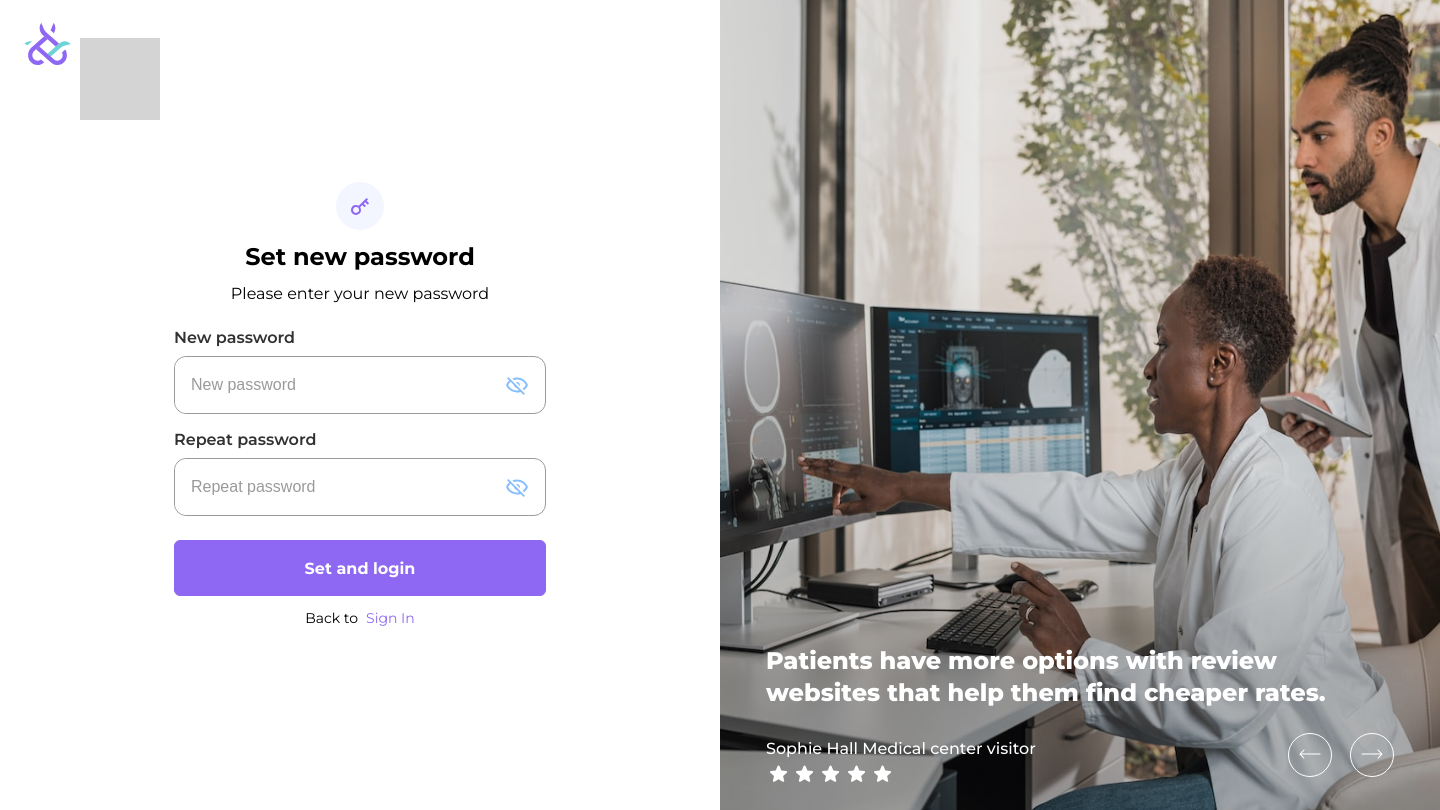
it: SetNewPasswordPage › does NOT submit form when passwords are not matching
In the password field with placeholder "New password": (336, 385) 175,357 -> 497,413, type "Abcde123!"
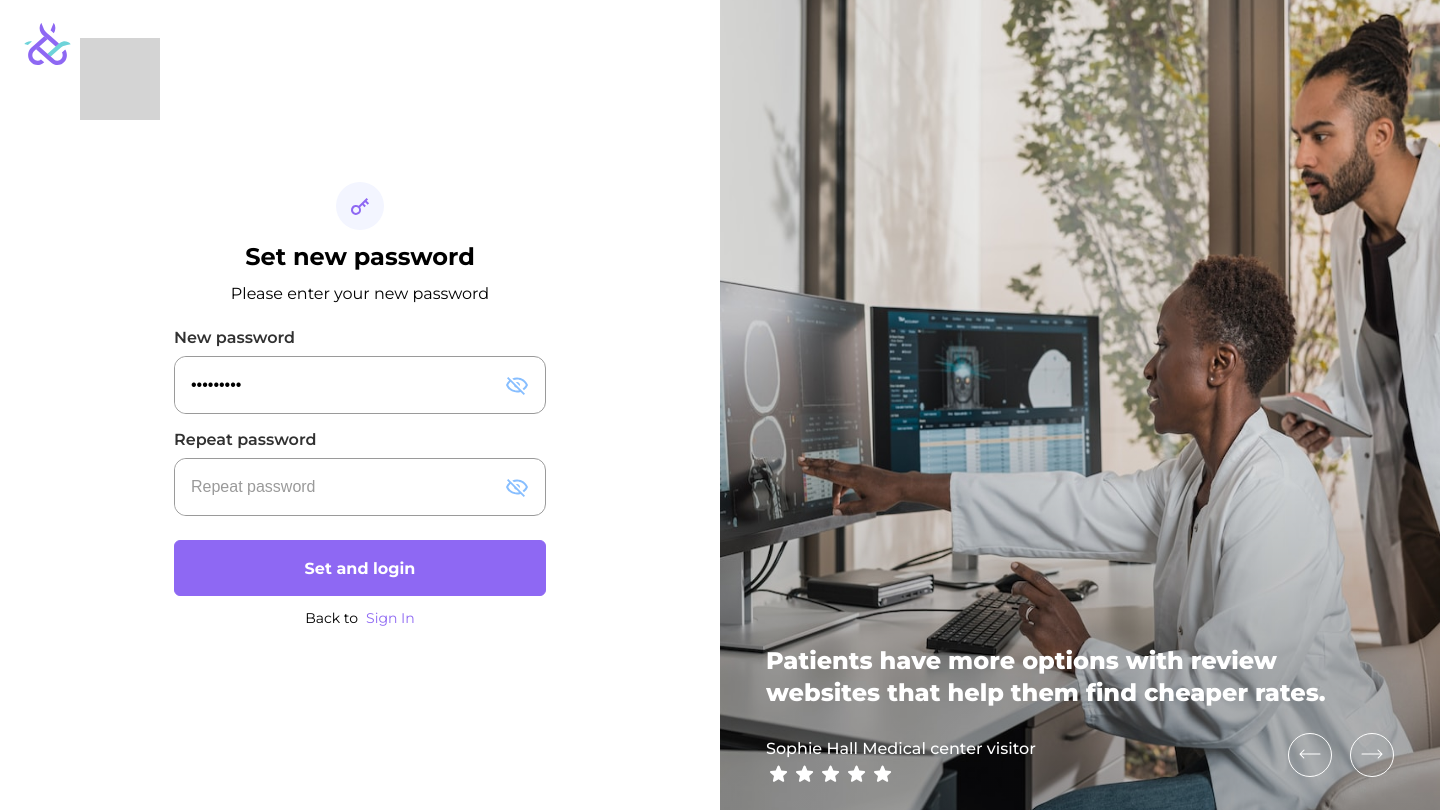
In the password field with placeholder "Repeat password": (336, 487) 175,459 -> 497,515, type "Efghijk123!"
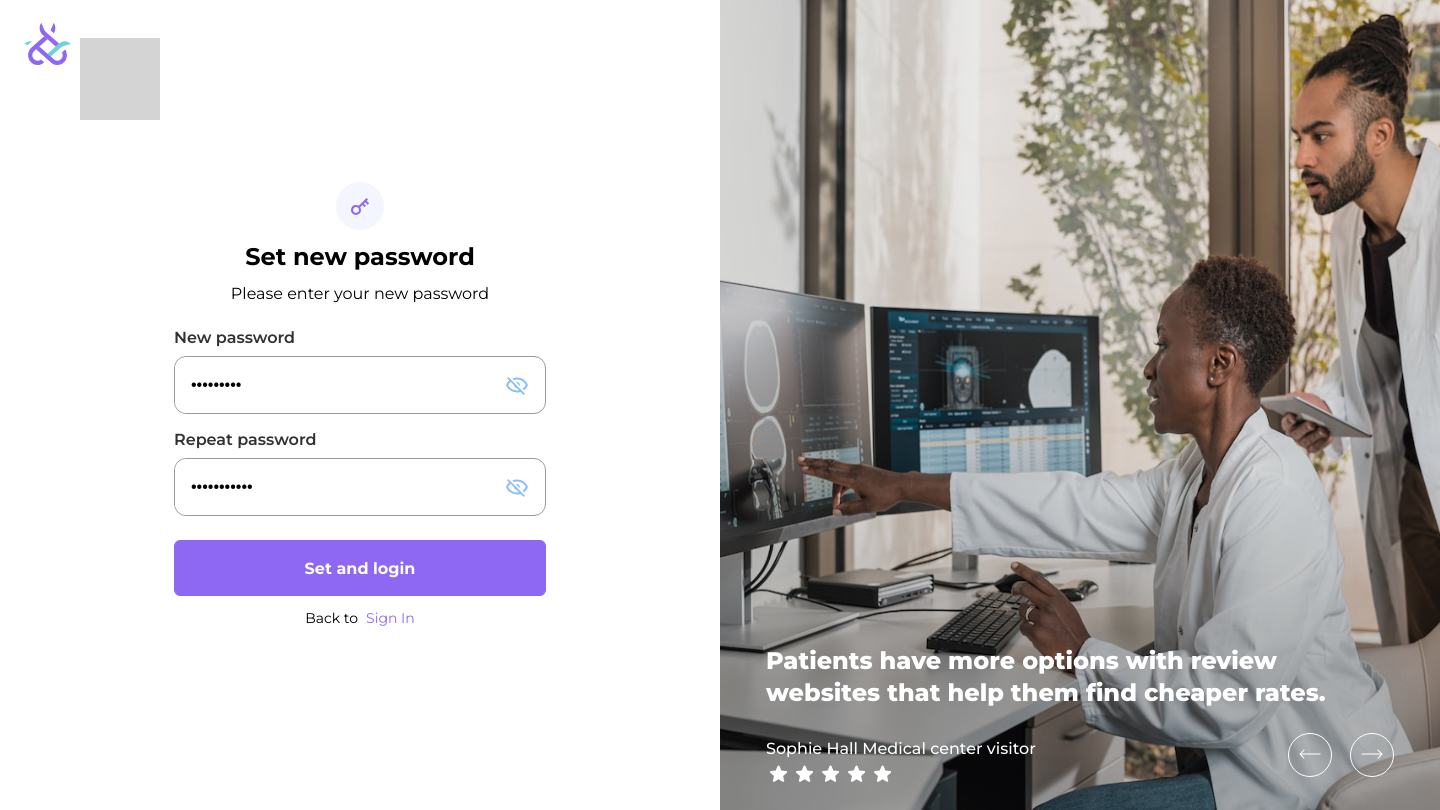
Click the button "Set and login": (360, 568) 174,540 -> 546,596
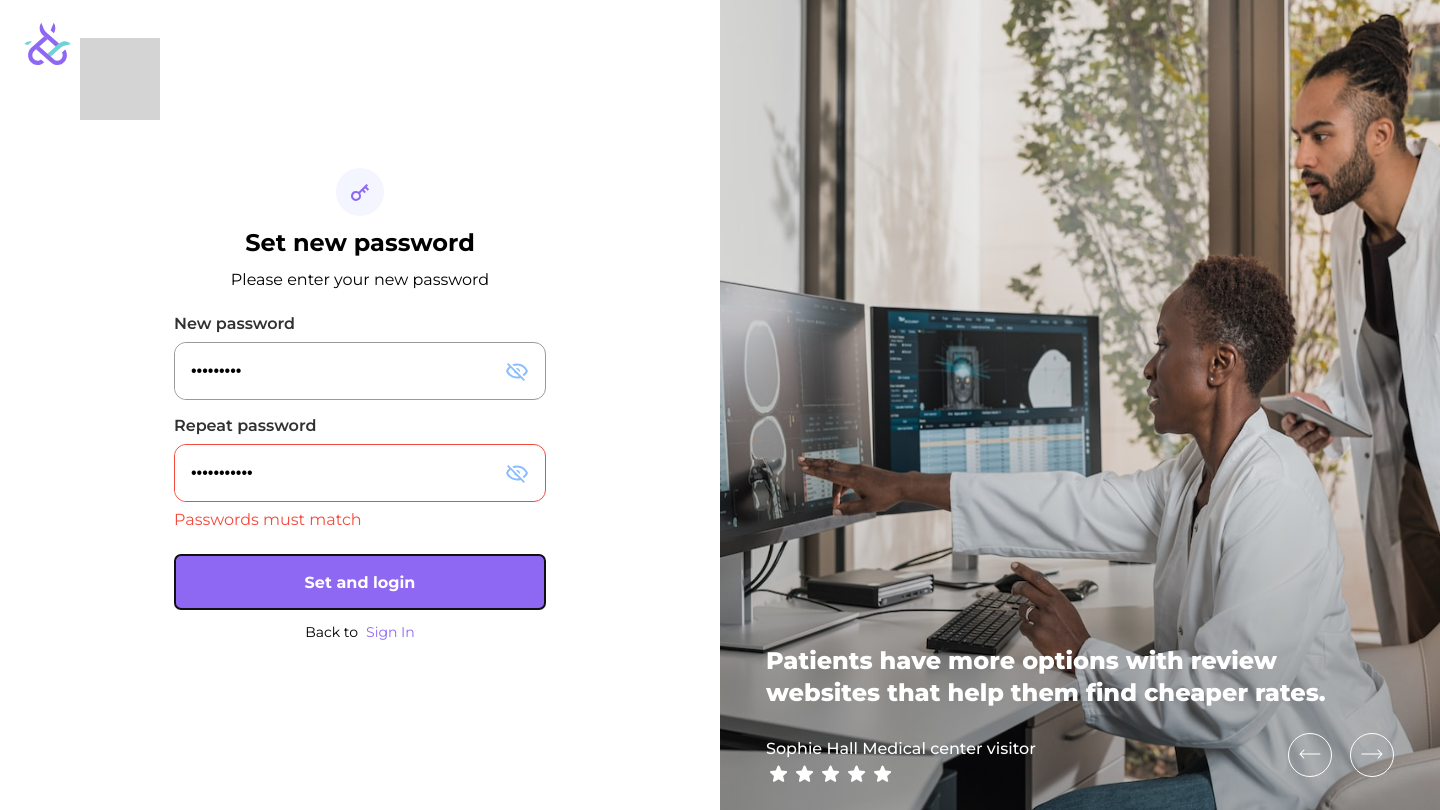
expect the text "Passwords must match" is shown: met, box 174,510 -> 362,529
